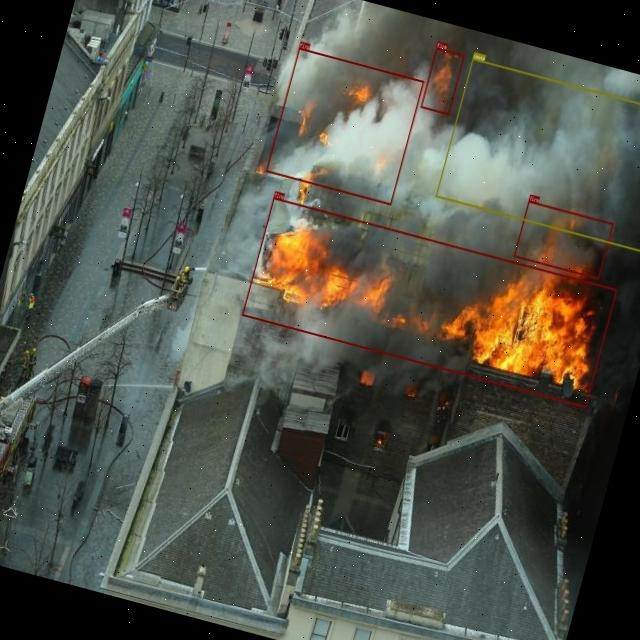fire: (242, 196, 617, 406), (264, 47, 424, 204), (513, 200, 613, 278), (420, 46, 464, 115)
smoke: (435, 57, 640, 252)
